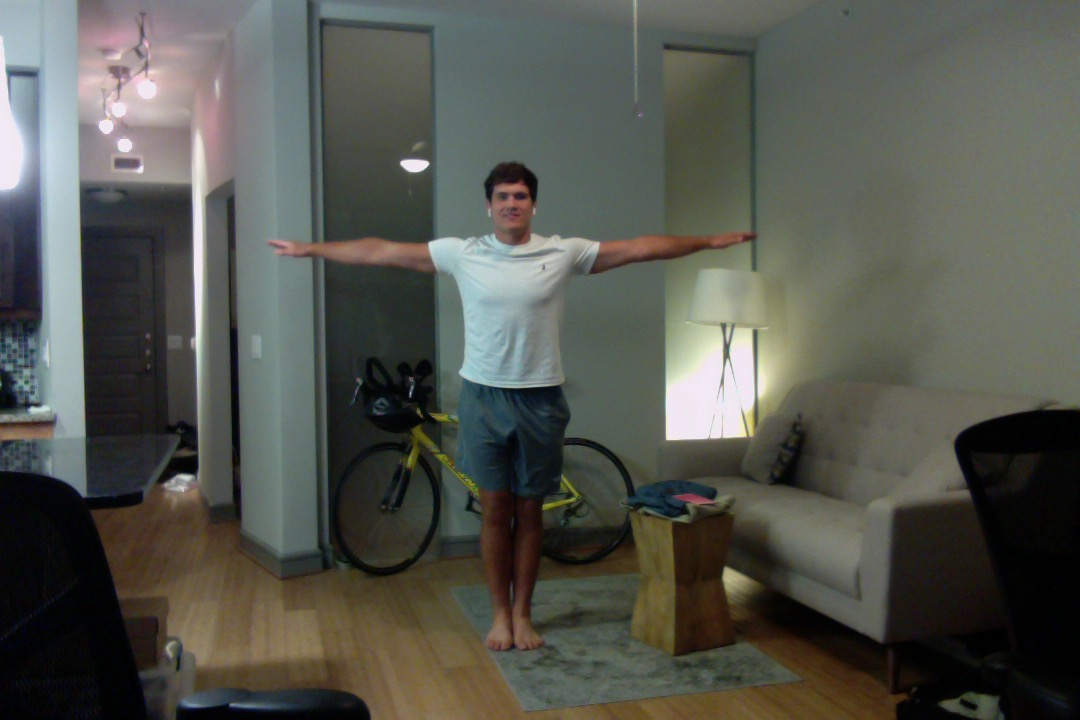T: (264, 153, 765, 659)
